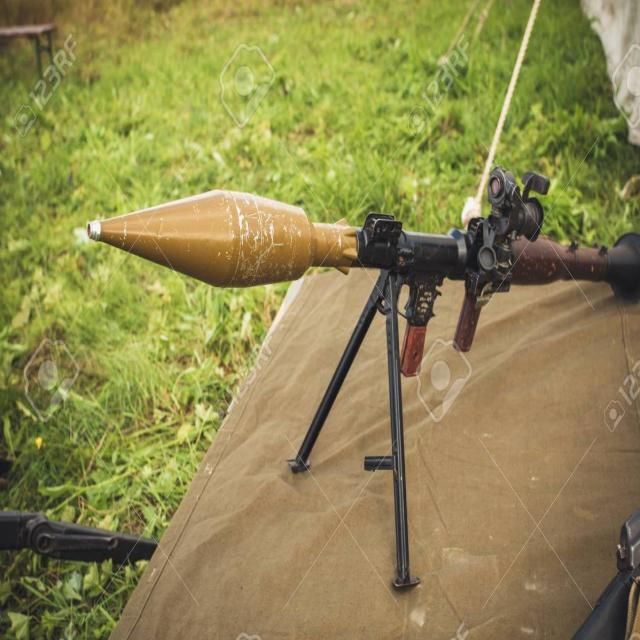Weapon: (87, 168, 640, 585)
